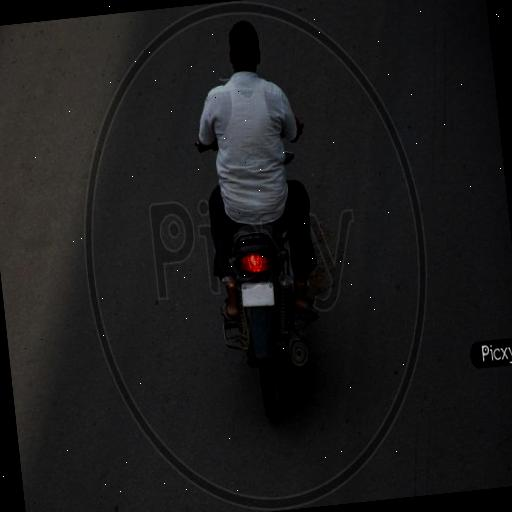no helmet: (176, 6, 338, 436)
